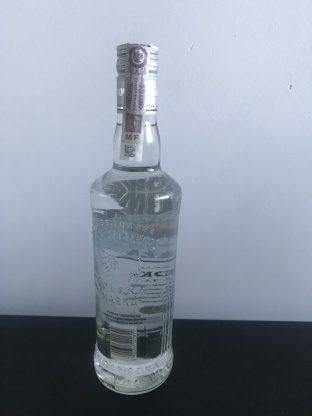nakretka: (113, 38, 160, 117)
